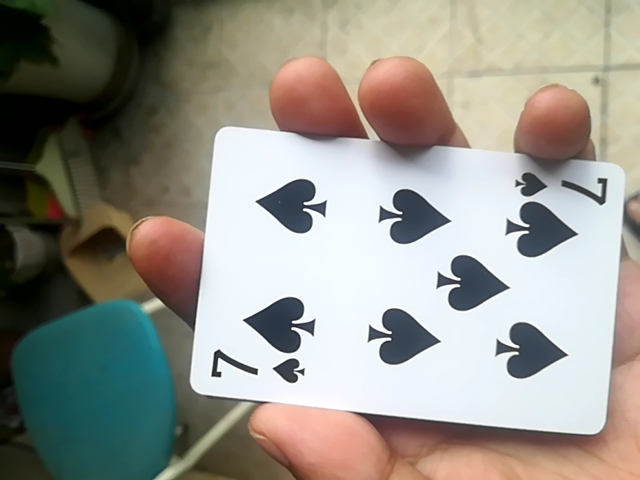ht 7: (186, 127, 633, 437)
